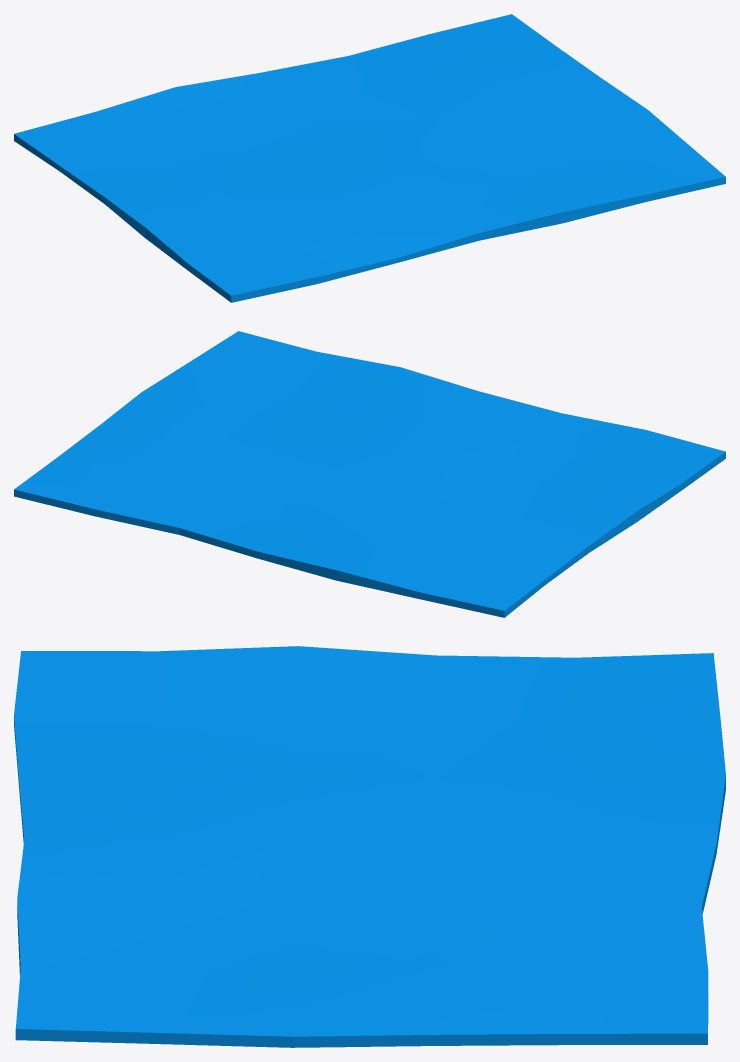
Rendered from area dance.glb.
3 renders of one model, top to bottom at view 1: azimuth 30°, elevation 25°; view 2: azimuth 150°, elevation 25°; view 3: azimuth 270°, elevation 25°, orthographic. The views are drawn at different scales.
Visible parts, largest first — view 1: F0_carpet; view 2: F0_carpet; view 3: F0_carpet.
Part boxes in pixels (box(x1,y1,x2,y2)): F0_carpet: box(14, 14, 725, 302); F0_carpet: box(14, 331, 725, 617); F0_carpet: box(14, 646, 725, 1047).
Size of the model in its own units: 7.01 by 0.1587 by 5.46.
